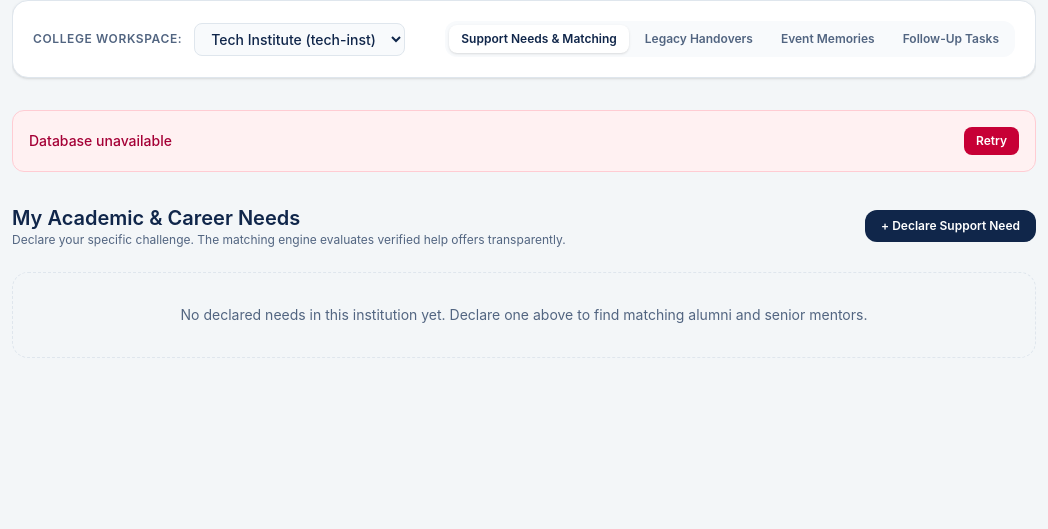
Test: LegacyMatchingPanel › displays helpful error alert with retry button when needs request fails
Check: the text "Database unavailable" is shown, box top-left (29, 131), bottom-right (172, 151)
Click the button "Retry".
click(992, 141)  # box top-left (964, 127), bottom-right (1019, 155)
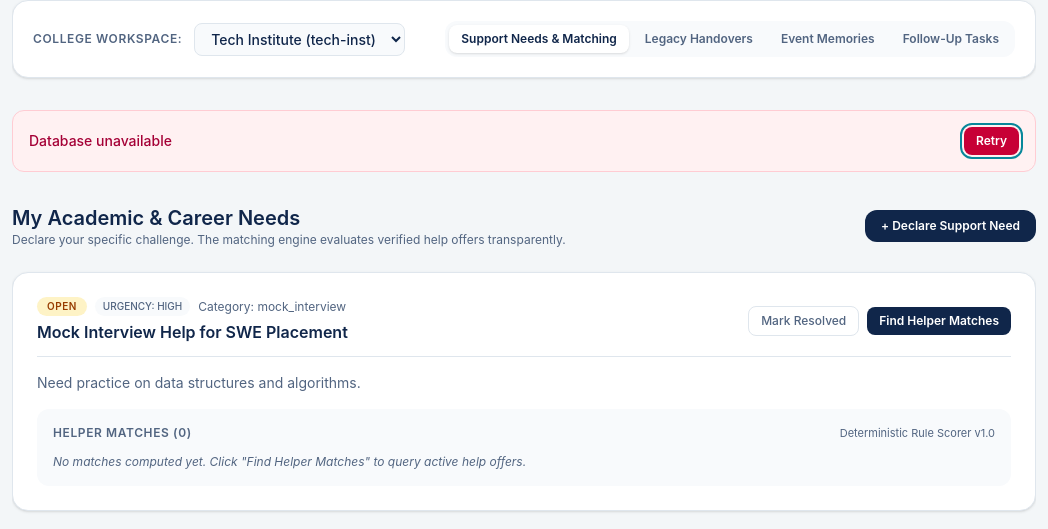
Check: the heading "Mock Interview Help for SWE Placement" is shown, box top-left (37, 320), bottom-right (348, 344)
